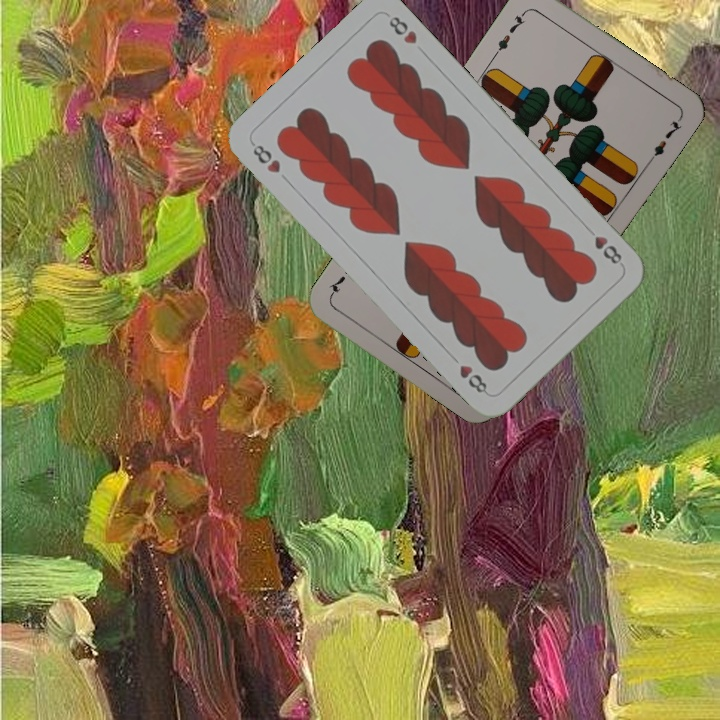E7: (490, 7, 529, 59)
H8: (581, 222, 625, 267), (247, 138, 283, 176)
